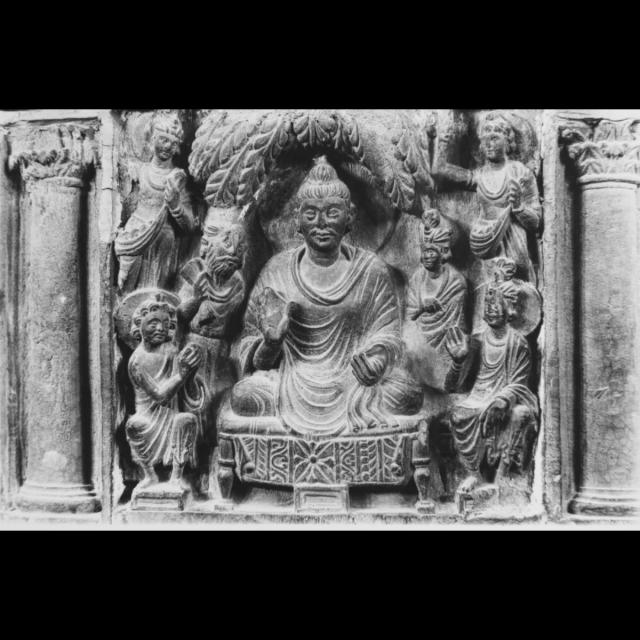buddha-sitting: (216, 138, 432, 485)
